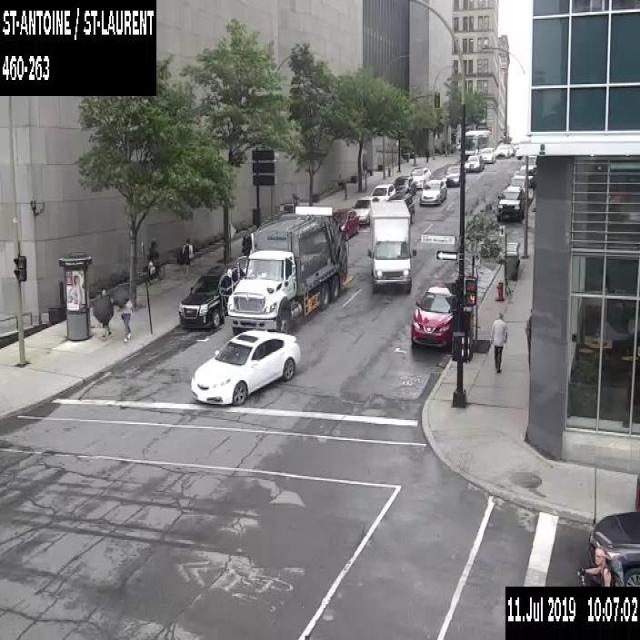bus: (464, 129, 490, 153)
cyclist: (576, 545, 622, 585)
pedestrian: (488, 312, 508, 375), (92, 287, 112, 338), (120, 292, 132, 341), (181, 236, 194, 279), (148, 238, 160, 280), (240, 232, 250, 255)
vehicle: (224, 205, 348, 336), (190, 328, 300, 406), (575, 507, 639, 584), (366, 198, 416, 290), (178, 263, 245, 329), (410, 284, 452, 351), (326, 208, 358, 240), (496, 185, 524, 221), (386, 191, 414, 223), (351, 194, 378, 224), (419, 179, 446, 204), (508, 175, 531, 202), (392, 174, 416, 196), (442, 164, 465, 185), (370, 182, 395, 201), (409, 166, 430, 188), (514, 169, 536, 188), (464, 153, 483, 171), (480, 146, 496, 162), (520, 154, 536, 169), (494, 142, 509, 156), (508, 145, 514, 156)
